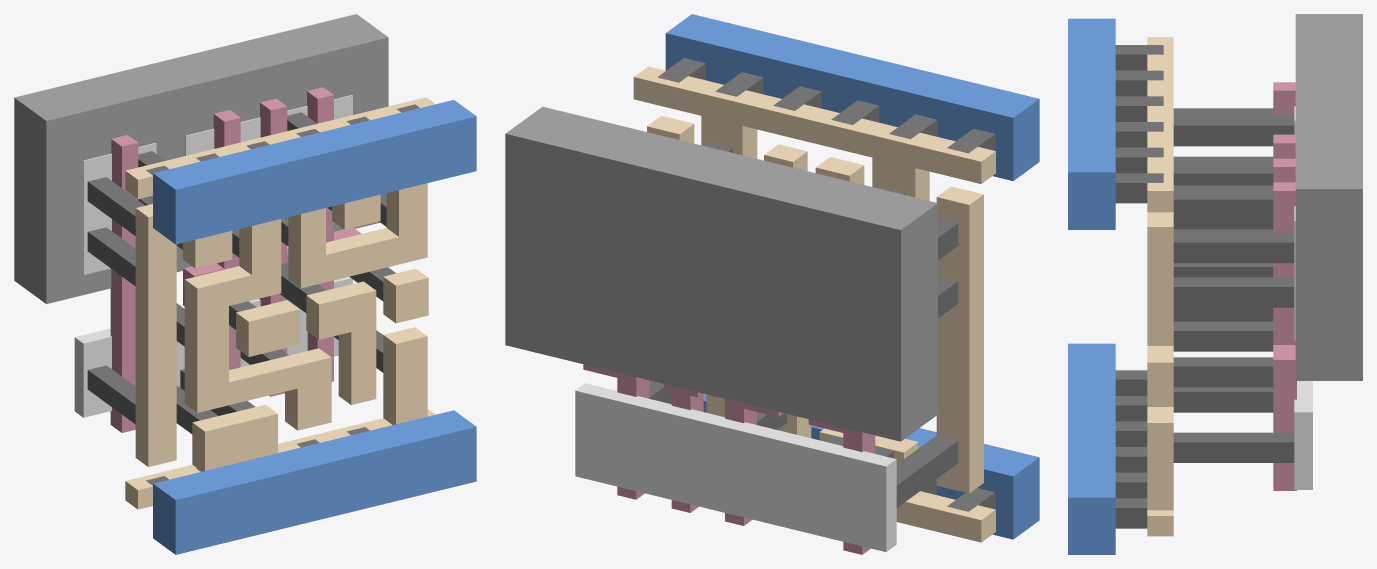
File: sky130_fd_sc_hd__a21o_1.gds.gltf
The picture shows the model from 3 angles, left to right: view 1: azimuth 30°, elevation 25°; view 2: azimuth 150°, elevation 25°; view 3: azimuth 270°, elevation 25°; orthographic projection. The views are drawn at different scales.
Parts seen in each view (by area): view 1: sky130_fd_sc_hd__a21o_1_li1, sky130_fd_sc_hd__a21o_1_met1, sky130_fd_sc_hd__a21o_1_nwell, sky130_fd_sc_hd__a21o_1_licon, sky130_fd_sc_hd__a21o_1_poly, sky130_fd_sc_hd__a21o_1_diff, sky130_fd_sc_hd__a21o_1_mcon; view 2: sky130_fd_sc_hd__a21o_1_nwell, sky130_fd_sc_hd__a21o_1_li1, sky130_fd_sc_hd__a21o_1_diff, sky130_fd_sc_hd__a21o_1_met1, sky130_fd_sc_hd__a21o_1_mcon, sky130_fd_sc_hd__a21o_1_licon, sky130_fd_sc_hd__a21o_1_poly; view 3: sky130_fd_sc_hd__a21o_1_licon, sky130_fd_sc_hd__a21o_1_nwell, sky130_fd_sc_hd__a21o_1_met1, sky130_fd_sc_hd__a21o_1_li1, sky130_fd_sc_hd__a21o_1_mcon, sky130_fd_sc_hd__a21o_1_poly, sky130_fd_sc_hd__a21o_1_diff.
Part boxes in pixels (box(x1,y1,x2,y2)): sky130_fd_sc_hd__a21o_1_li1: box(125, 97, 435, 509); sky130_fd_sc_hd__a21o_1_met1: box(153, 100, 476, 554); sky130_fd_sc_hd__a21o_1_nwell: box(14, 14, 388, 303); sky130_fd_sc_hd__a21o_1_licon: box(87, 112, 395, 433); sky130_fd_sc_hd__a21o_1_poly: box(110, 87, 361, 432); sky130_fd_sc_hd__a21o_1_diff: box(74, 95, 352, 417); sky130_fd_sc_hd__a21o_1_mcon: box(146, 104, 419, 485); sky130_fd_sc_hd__a21o_1_nwell: box(505, 106, 937, 441); sky130_fd_sc_hd__a21o_1_li1: box(633, 66, 995, 542); sky130_fd_sc_hd__a21o_1_diff: box(575, 383, 896, 551); sky130_fd_sc_hd__a21o_1_met1: box(665, 14, 1039, 539); sky130_fd_sc_hd__a21o_1_mcon: box(657, 58, 995, 511); sky130_fd_sc_hd__a21o_1_licon: box(649, 143, 958, 507); sky130_fd_sc_hd__a21o_1_poly: box(583, 364, 875, 554); sky130_fd_sc_hd__a21o_1_licon: box(1173, 108, 1294, 462); sky130_fd_sc_hd__a21o_1_nwell: box(1295, 14, 1362, 380); sky130_fd_sc_hd__a21o_1_met1: box(1068, 18, 1115, 554); sky130_fd_sc_hd__a21o_1_li1: box(1147, 37, 1173, 536); sky130_fd_sc_hd__a21o_1_mcon: box(1115, 45, 1163, 528); sky130_fd_sc_hd__a21o_1_poly: box(1273, 82, 1296, 490); sky130_fd_sc_hd__a21o_1_diff: box(1294, 106, 1312, 489).
Bounding box in the file's own units: 3.14 × 3.2 × 2.24.
